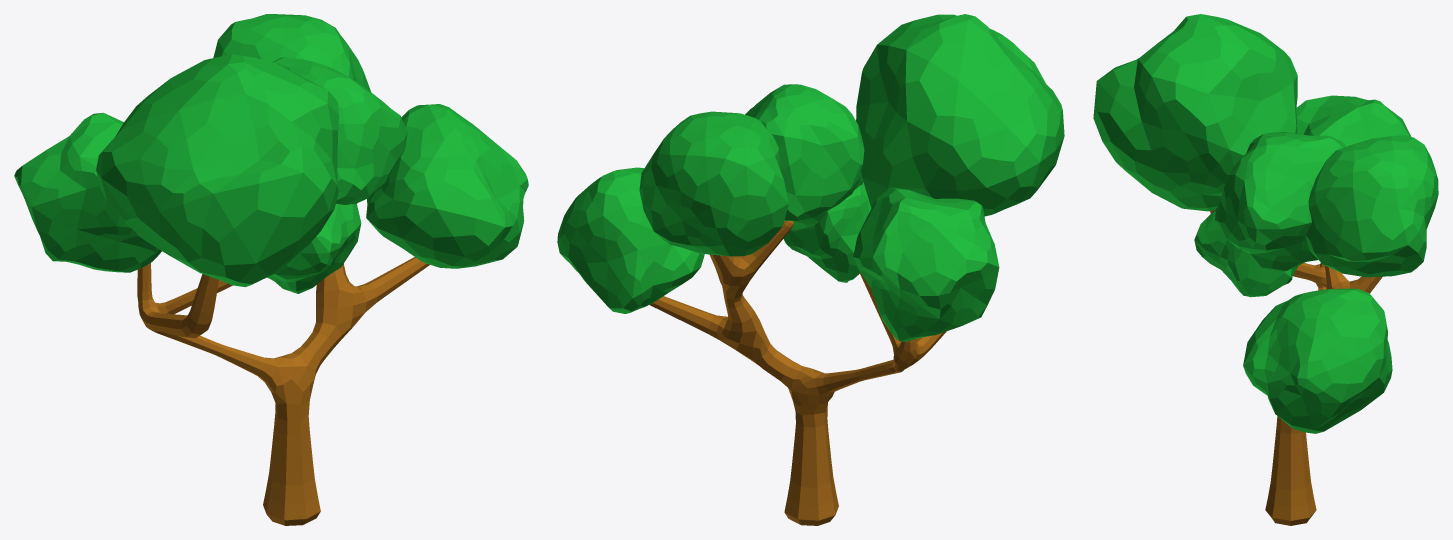
The model's file is tree.fbx.
3 renders of one model, left to right at view 1: azimuth 30°, elevation 25°; view 2: azimuth 150°, elevation 25°; view 3: azimuth 270°, elevation 25°, orthographic. The views are drawn at different scales.
Visible parts, largest first — view 1: Icosphere, Plane; view 2: Icosphere, Plane; view 3: Icosphere, Plane.
Boxes of the visible parts, x1,y1,x2,y2 form: Icosphere: (14, 14, 528, 293); Plane: (137, 257, 429, 525); Icosphere: (557, 14, 1064, 341); Plane: (649, 221, 946, 525); Icosphere: (1093, 14, 1438, 433); Plane: (1210, 210, 1382, 525).
Size of the model in its own units: 971 by 1021 by 699.
